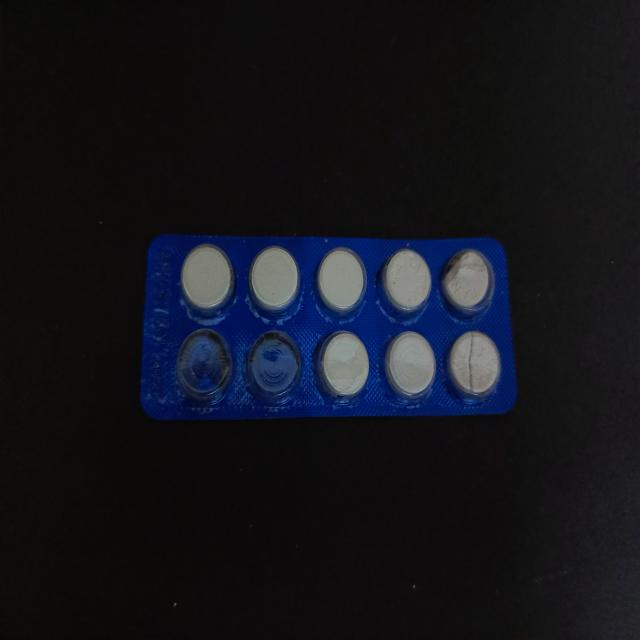defect: (174, 326, 235, 405), (244, 328, 304, 405), (437, 246, 498, 321), (444, 327, 504, 401)
